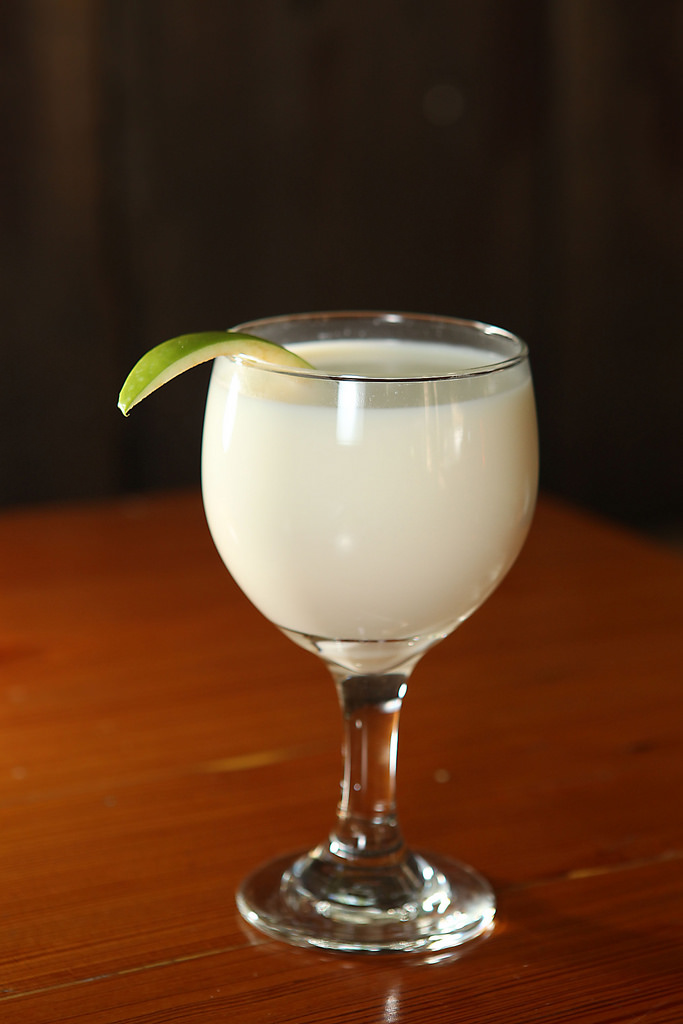glass of milk: (207, 306, 528, 949)
